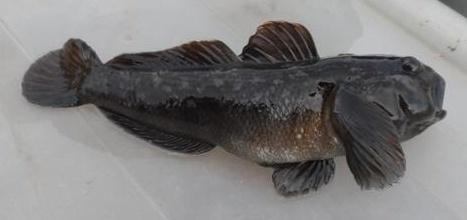Goby: (0, 26, 458, 195)
